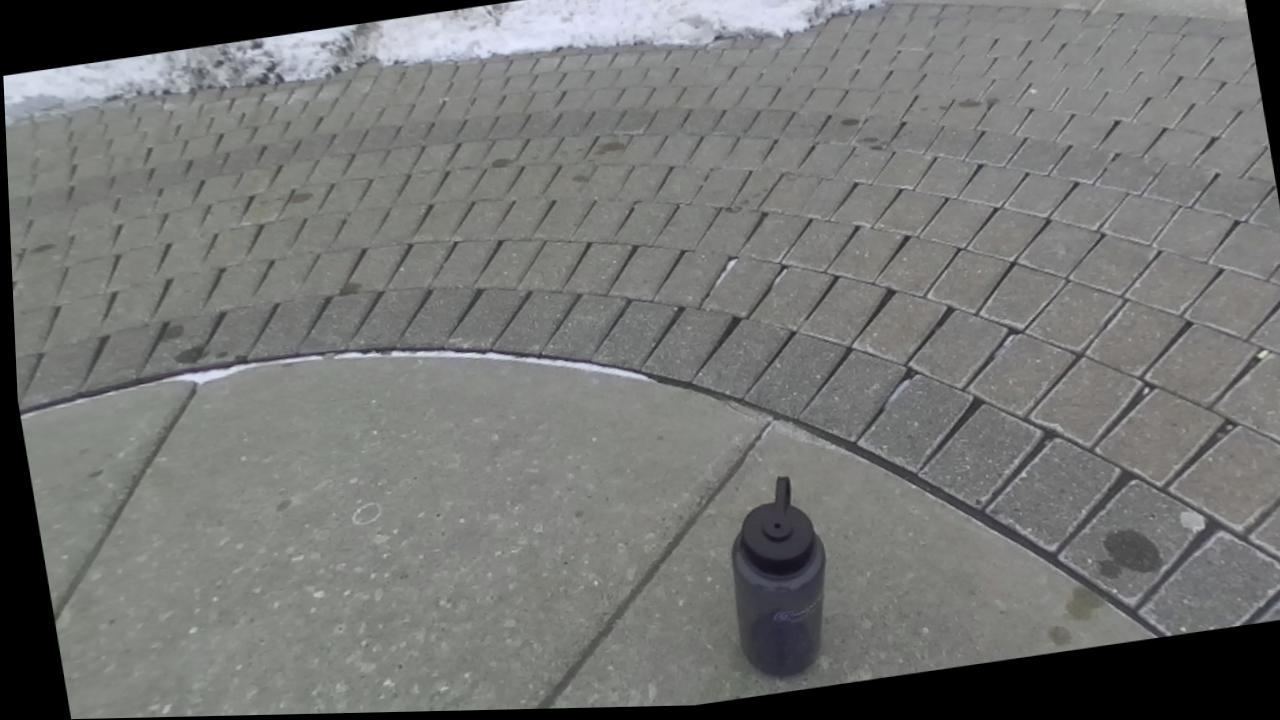bottle: (731, 477, 826, 676)
